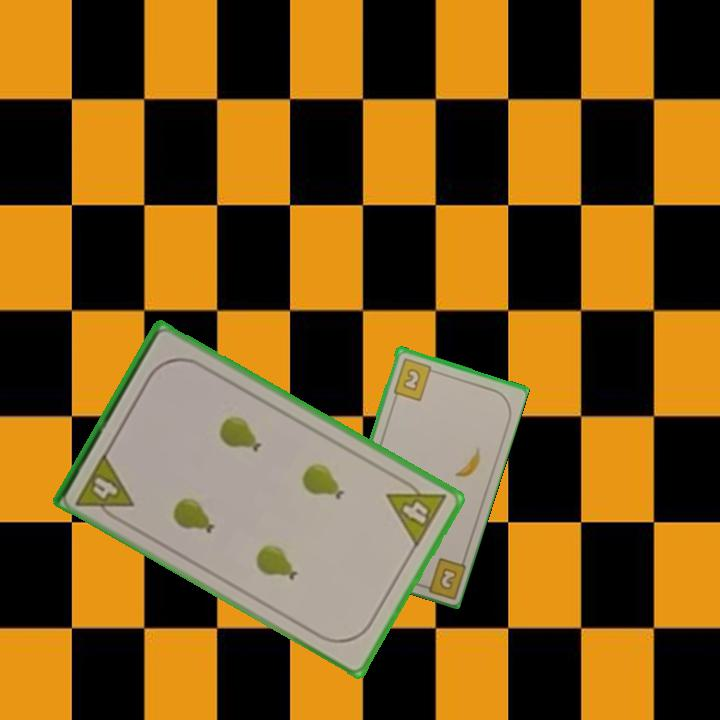2b: (389, 354, 439, 403), (415, 554, 468, 600)
4p: (383, 472, 450, 550), (72, 449, 137, 526)
